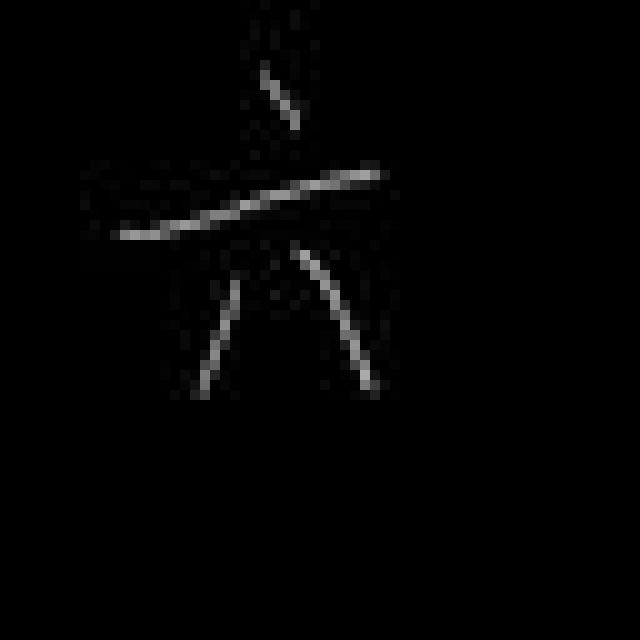6 -six-: (110, 61, 393, 412)
